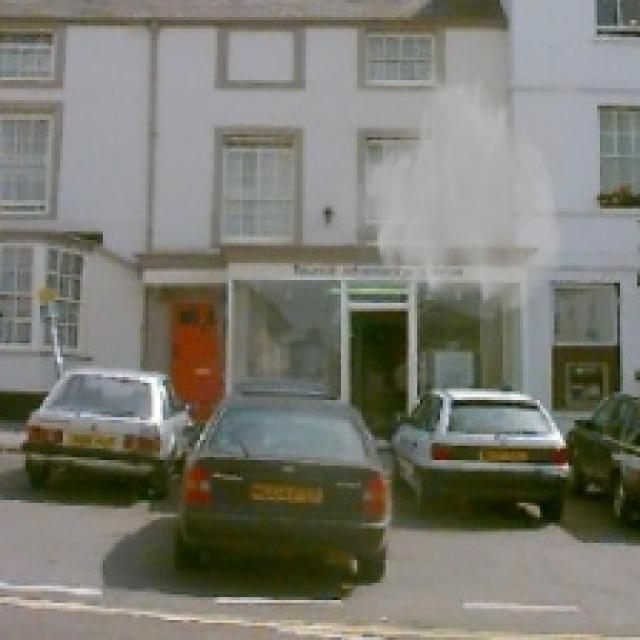smoke: (326, 46, 591, 317)
